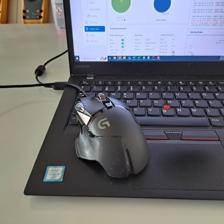mouse: (70, 91, 152, 182)
